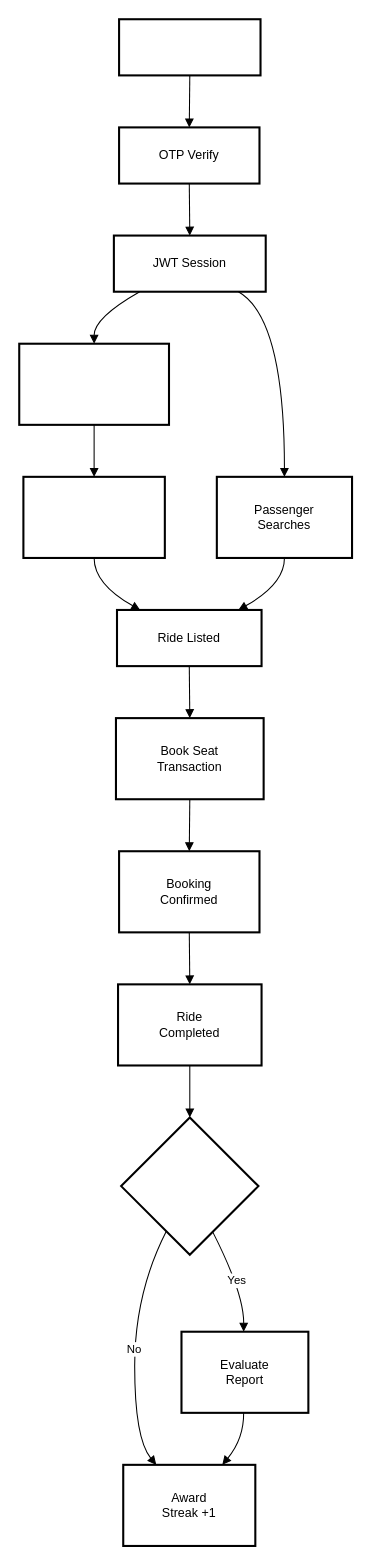
This 370x1564 diagram has some shape labels left out. The box of each missing label's shape, as (x1, y1, x2, y2) in pixels:
Driver Posts Ride: (18, 342, 170, 425)
Price Calculated: (22, 475, 165, 558)
Reports Filed?: (120, 1116, 259, 1255)
User Email: (118, 18, 261, 76)
